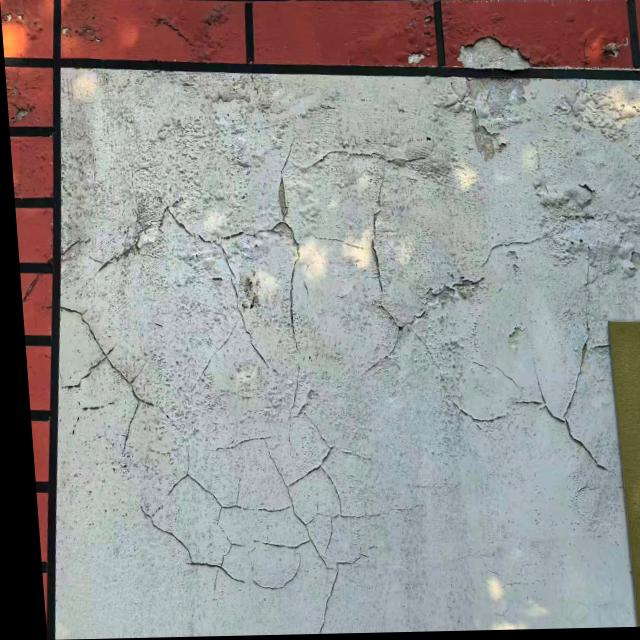spalling: (59, 58, 625, 601), (455, 37, 536, 70), (610, 229, 640, 284)
